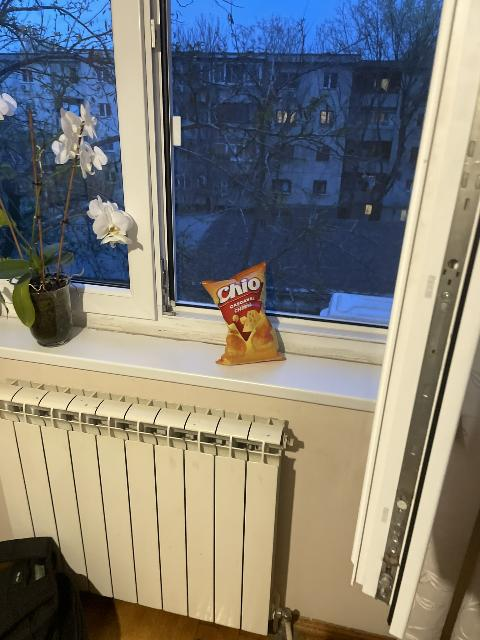Chio Cascaval 125g: (201, 263, 284, 363)
